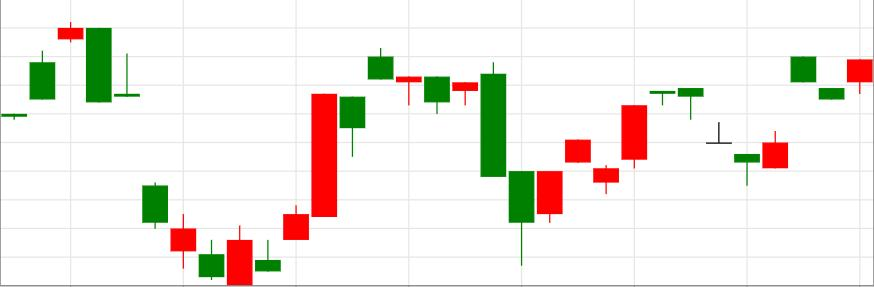bullish_engulfing_rise: (57, 21, 254, 287)
